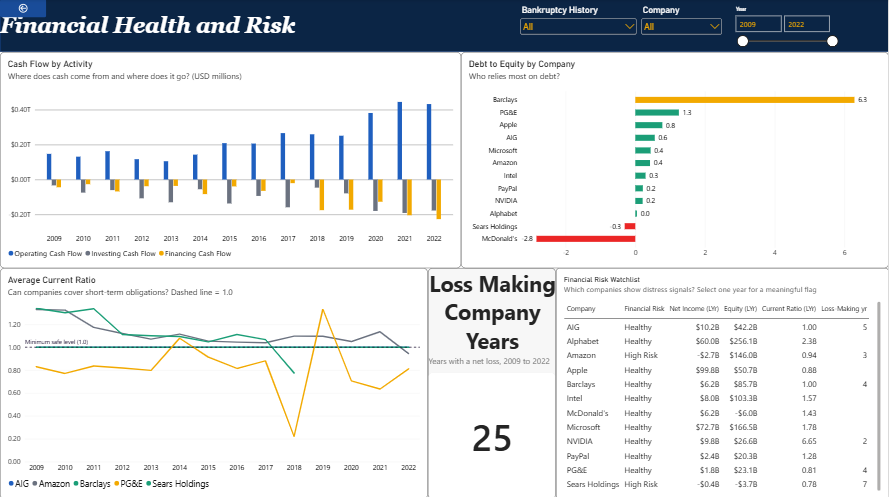

The dashboard page shown, as its layout file describes it:
{"tool":"powerbi","page":{"name":"Financial Health and Risk","canvas":[1920,1080],"ordinal":2},"visuals":[{"type":"shape","box":[0,0,1920.2,114.5],"z":0},{"type":"slicer","fields":{"Values":["DimYear.Year"]},"box":[1581.1,13,233.3,90.7],"z":1000},{"type":"slicer","fields":{"Values":["DimCompany.Company"]},"box":[1380.2,13,183.6,69.1],"z":2000},{"type":"clusteredColumnChart","title":"Cash Flow by Activity","fields":{"Category":["DimYear.Year"],"Y":["FactFinancials.Operating Cash Flow","FactFinancials.Investing Cash Flow","FactFinancials.Financing Cash Flow"]},"box":[0,114.5,995.8,466.6],"z":3000},{"type":"lineChart","title":"Average Current Ratio","fields":{"Category":["DimYear.Year"],"Series":["DimCompany.Company"],"Y":["FactFinancials.Avg Current Ratio"]},"box":[0,581,924.5,499],"z":4000},{"type":"clusteredBarChart","title":"Debt to Equity by Company","fields":{"Category":["DimCompany.Company"],"Y":["FactFinancials.Avg Debt to Equity"]},"box":[995.8,114.5,924.5,466.6],"z":5000},{"type":"tableEx","title":"Financial Risk Watchlist","fields":{"Values":["DimCompany.Company","FactFinancials.Financial Risk Flag_","FactFinancials.Net Income (Latest Yr)","FactFinancials.Equity (Latest Yr)","FactFinancials.Current Ratio (Latest Yr)","FactFinancials.Loss-Making Company-Years"]},"box":[1201,581,719.3,499],"z":6000},{"type":"cardVisual","title":"Loss Making Company Years","fields":{"Data":["FactFinancials.Loss-Making Company-Years"]},"box":[924.5,581,276.5,499],"z":7000},{"type":"slicer","fields":{"Values":["DimCompany.Bankruptcy History"]},"box":[1118.9,13,261.4,69.1],"z":8000},{"type":"actionButton","box":[0,0,100,40],"z":9000}]}

Visuals, with their boxes in screenshot pixels (x1, y1, x2, y2), scaled from the page's 1920x1080 canvas onto the 889x497 screenshot:
shape: 0/0/888/53
slicer - DimYear.Year: 732/6/840/48
slicer - DimCompany.Company: 639/6/724/38
"Cash Flow by Activity" clusteredColumnChart: 0/53/461/267
"Average Current Ratio" lineChart: 0/267/428/496
"Debt to Equity by Company" clusteredBarChart: 461/53/888/267
"Financial Risk Watchlist" tableEx: 556/267/888/496
"Loss Making Company Years" cardVisual: 428/267/556/496
slicer - DimCompany.Bankruptcy History: 518/6/639/38
actionButton: 0/0/46/18
